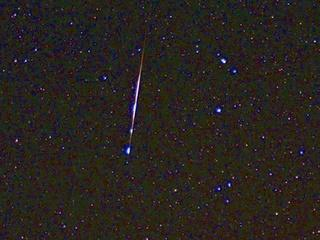meteorite: (124, 39, 153, 152)
